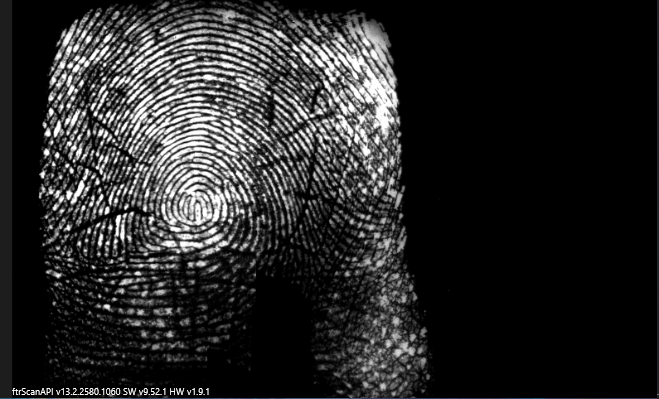nucelo: (170, 185, 218, 227)
verticilo: (50, 236, 91, 271), (305, 265, 337, 293)
